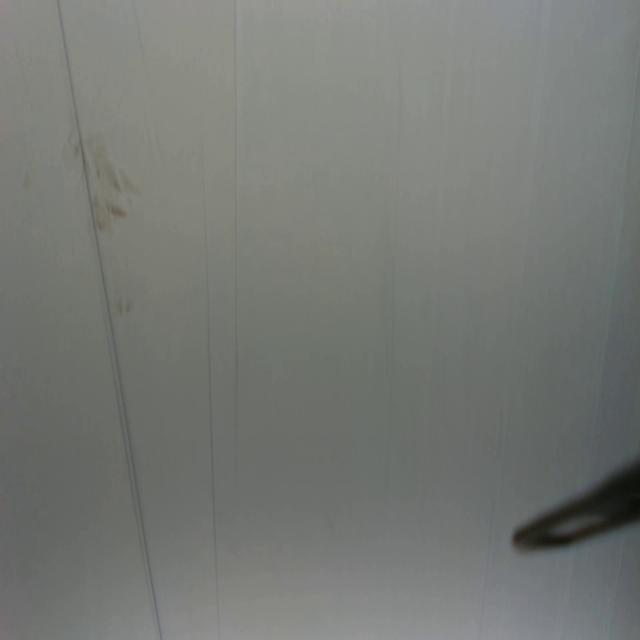crease: (54, 0, 164, 640), (590, 74, 640, 426), (199, 147, 222, 635), (232, 0, 242, 485), (605, 530, 631, 634), (131, 0, 147, 64)
